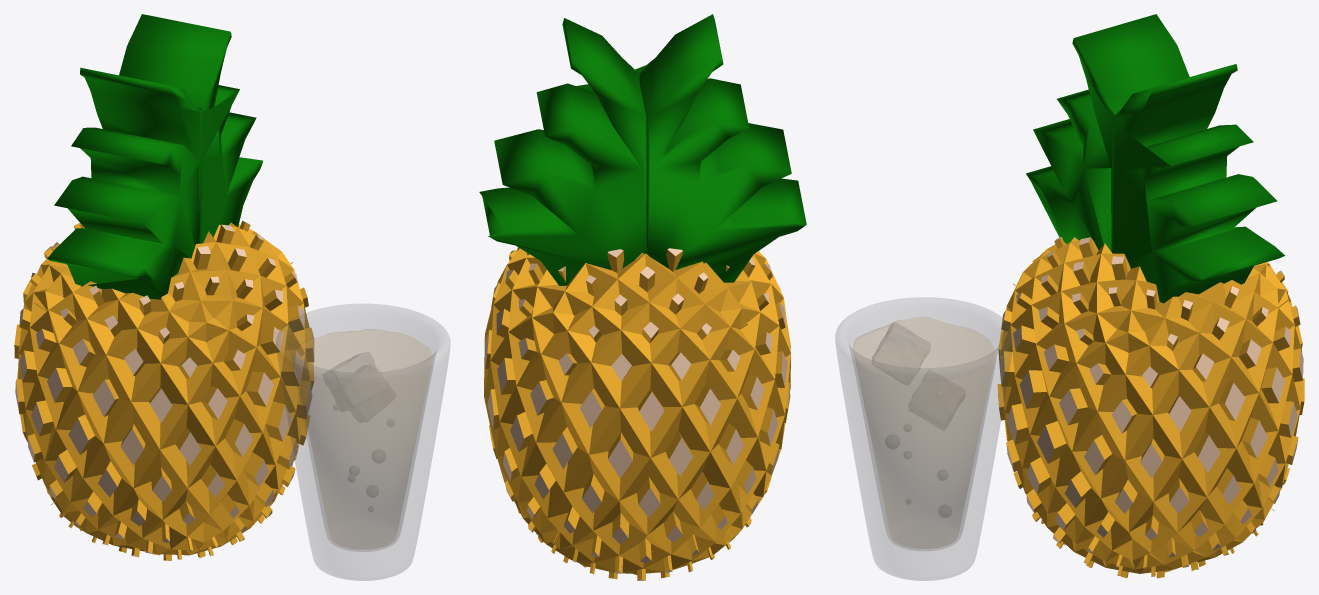
File: RPG.glb
3 views of the same model, side by side, from view 1: azimuth 30°, elevation 25°; view 2: azimuth 150°, elevation 25°; view 3: azimuth 270°, elevation 25° (orthographic). The views are drawn at different scales.
Visible parts, largest first — view 1: Pineapple, cup, water, ice; view 2: Pineapple; view 3: Pineapple, cup, water, ice.
Boxes of the visible parts, left/top/right/bottom form: Pineapple: left=14, top=14, right=314, bottom=560; cup: left=276, top=304, right=450, bottom=580; water: left=294, top=329, right=432, bottom=549; ice: left=327, top=352, right=383, bottom=409; Pineapple: left=479, top=14, right=806, bottom=580; Pineapple: left=997, top=14, right=1304, bottom=578; cup: left=835, top=297, right=1013, bottom=580; water: left=853, top=317, right=994, bottom=548; ice: left=872, top=322, right=930, bottom=383.
Bounding box in the file's own units: 9.82 × 15.45 × 12.93.
